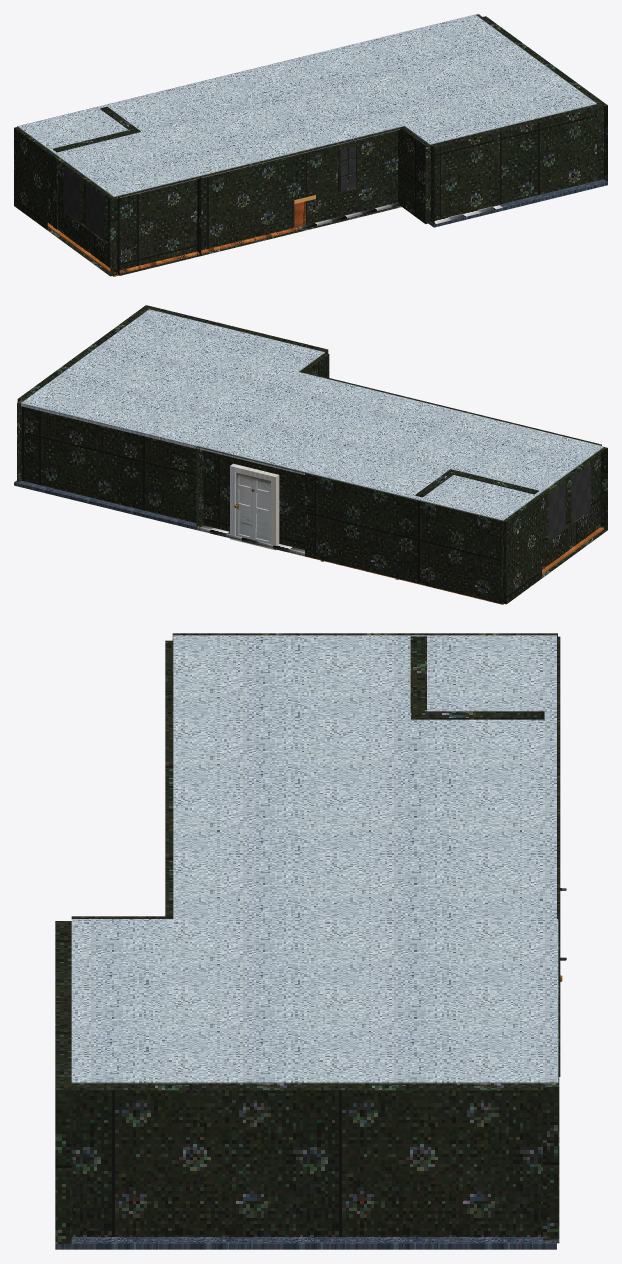
File: player_house_textured.glb
3 views of the same model, one above another, from view 1: azimuth 30°, elevation 25°; view 2: azimuth 150°, elevation 25°; view 3: azimuth 270°, elevation 25° (orthographic). The views are drawn at different scales.
Visible parts, largest first — view 1: floor_1x2.003, wall_1x1, wall_1x1.002, floor_1x2.004, floor_1x2.005, floor_1x1.001, wall_1x2.001, wall_window1x1.002, wall_1x2.006, wall_window1x1.004, wall_1x1.006, floor_1x2.006 (+7 smaller); view 2: floor_1x2.003, wall_1x2.002, wall_1x1.005, floor_1x2.004, floor_1x2.005, floor_1x1.001, wall_window1x1.002, frount door.001, wall_window1x1.004, frame.002, floor_1x2.006, wall_1x1.006 (+6 smaller); view 3: floor_1x2.003, wall_1x1.006, floor_1x2.004, floor_1x2.005, floor_1x1.001, floor_1x2.006, wall_1x1.002, wall_1x1.005, wall_1x1, wall_1x2.002, wall_1x1.001, wall_closet_door (+1 smaller).
Boxes of the visible parts, x1,y1,x2,y2 form: floor_1x2.003: [308, 14, 596, 144]; wall_1x1: [200, 127, 401, 255]; wall_1x1.002: [430, 102, 607, 223]; floor_1x2.004: [205, 55, 404, 153]; floor_1x2.005: [101, 81, 300, 178]; floor_1x1.001: [17, 106, 196, 198]; wall_1x2.001: [117, 176, 201, 275]; wall_window1x1.002: [14, 127, 117, 276]; wall_1x2.006: [398, 126, 430, 223]; wall_window1x1.004: [63, 168, 103, 240]; wall_1x1.006: [480, 16, 603, 180]; floor_1x2.006: [428, 179, 607, 227]; floor_1x2.003: [21, 309, 324, 448]; wall_1x2.002: [196, 446, 502, 603]; wall_1x1.005: [17, 400, 203, 529]; floor_1x2.004: [197, 372, 406, 474]; floor_1x2.005: [306, 398, 516, 499]; floor_1x1.001: [415, 425, 603, 520]; wall_window1x1.002: [503, 447, 607, 604]; frount door.001: [234, 472, 270, 543]; wall_window1x1.004: [548, 464, 590, 540]; frame.002: [230, 463, 279, 550]; floor_1x2.006: [14, 480, 196, 529]; wall_1x1.006: [17, 308, 147, 481]; floor_1x2.003: [71, 919, 558, 1083]; wall_1x1.006: [71, 1083, 543, 1236]; floor_1x2.004: [173, 817, 556, 918]; floor_1x2.005: [173, 716, 556, 817]; floor_1x1.001: [173, 635, 556, 716]; floor_1x2.006: [55, 1237, 556, 1249]; wall_1x1.002: [55, 921, 71, 1246]; wall_1x1.005: [543, 917, 559, 1243]; wall_1x1: [165, 720, 173, 916]; wall_1x2.002: [557, 636, 566, 1076]; wall_1x1.001: [410, 636, 426, 712]; wall_closet_door: [411, 711, 544, 719].
Bounding box in the file's own units: 22.55 × 3.79 × 10.66.
Materials: 16 (16 with a texture image).
